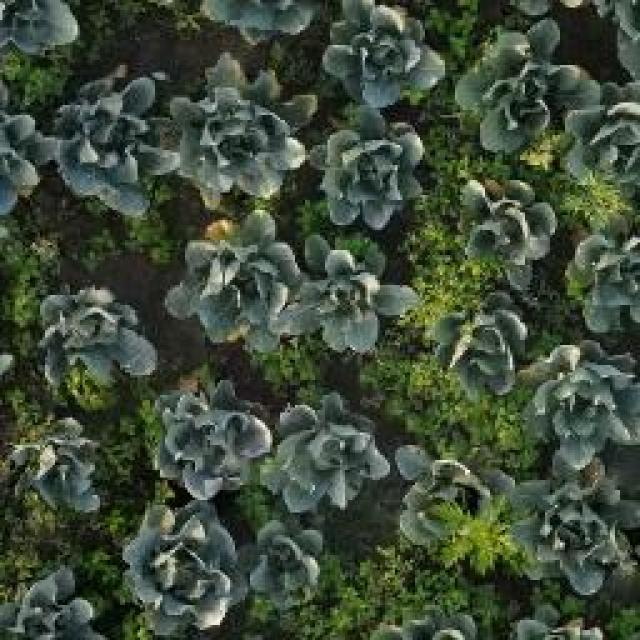cabbage: (52, 73, 174, 214), (176, 79, 308, 203), (175, 220, 300, 350), (123, 504, 243, 622), (36, 288, 155, 399), (521, 475, 638, 587), (262, 395, 372, 513), (471, 35, 580, 151), (403, 447, 509, 559), (296, 249, 409, 351), (332, 6, 446, 103), (539, 346, 640, 452), (157, 392, 260, 493), (316, 125, 422, 222), (465, 179, 559, 279), (16, 418, 106, 516), (439, 300, 532, 389), (0, 561, 92, 640), (241, 525, 327, 609), (577, 230, 640, 317)
